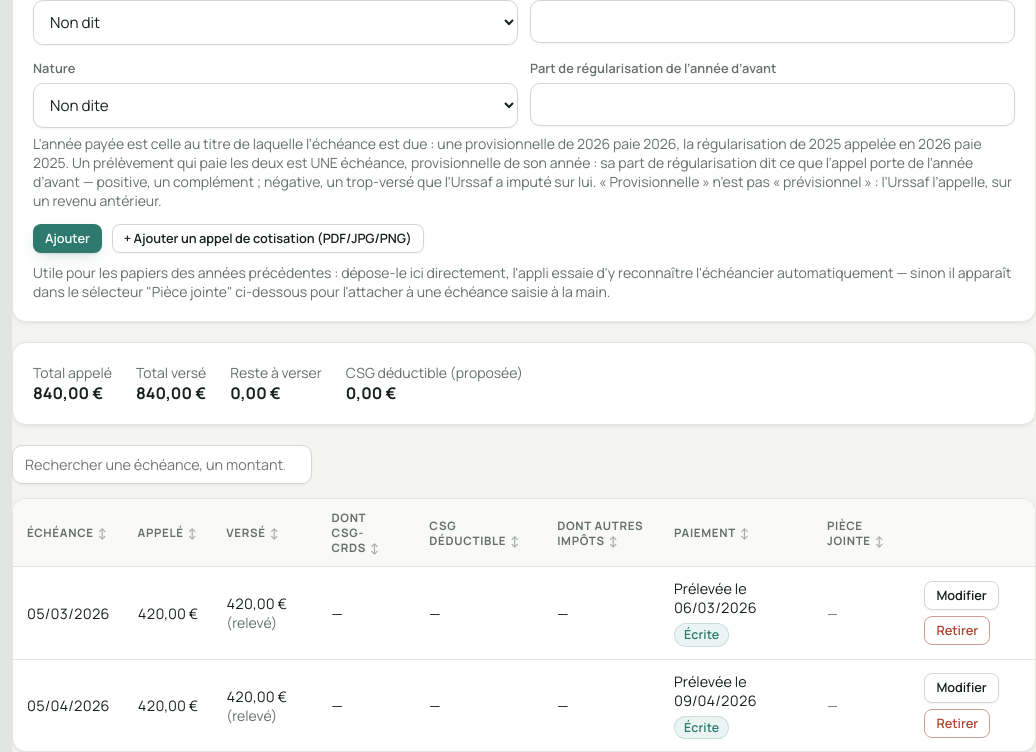
Test: CotisationsTab — la colonne Paiement › la recherche trouve une échéance par la date de son prélèvement
(page scrolled)
Expected: the text "Prélevée le 09/04/2026" is shown, [674,672,756,710]
In the search field labelled "Rechercher une échéance, un montant…": (162, 465) [12,445,312,484], type "09/04/2026"
(page scrolled)
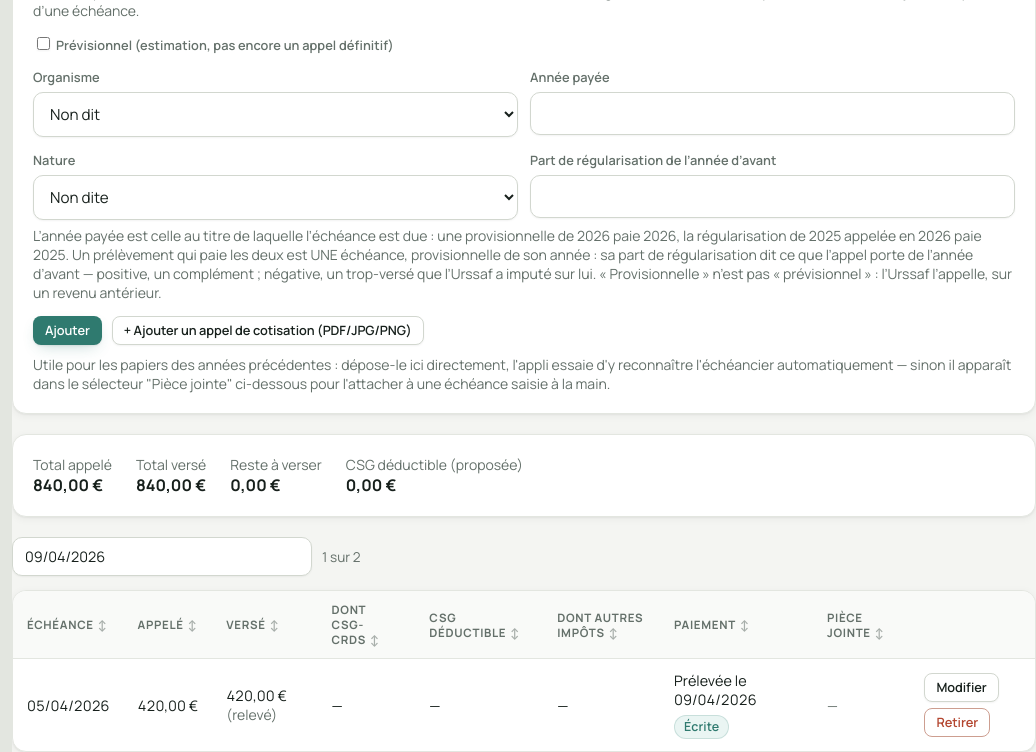
Expected: the text "Prélevée le 09/04/2026" is shown, [674,671,756,709]
Now the text "Prélevée le 06/03/2026" is gone
